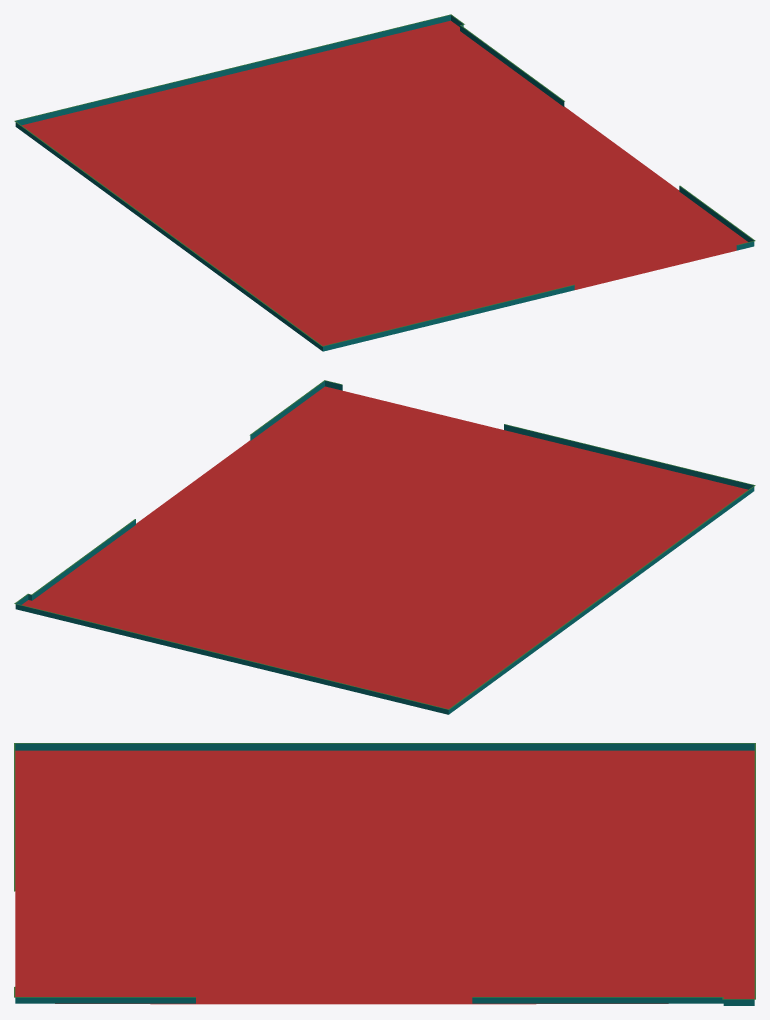
The model's file is SM_Floor_02.fbx.
3 renders of one model, top to bottom at view 1: azimuth 30°, elevation 25°; view 2: azimuth 150°, elevation 25°; view 3: azimuth 270°, elevation 25°, orthographic. The views are drawn at different scales.
Parts seen in each view (by area): view 1: SM_Floor_02; view 2: SM_Floor_02; view 3: SM_Floor_02.
Part boxes in pixels (box(x1,y1,x2,y2)): SM_Floor_02: box(14, 14, 755, 351); SM_Floor_02: box(14, 380, 755, 714); SM_Floor_02: box(14, 743, 755, 1005).
Bounding box in the file's own units: 405 × 5 × 495.
